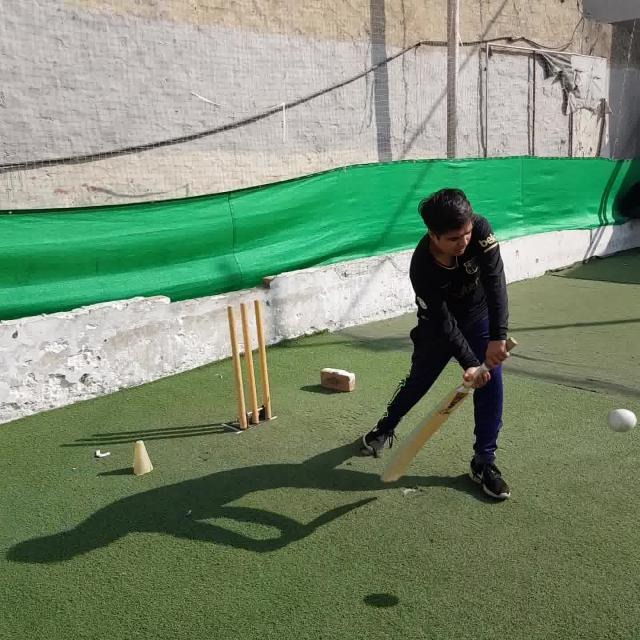ball: (608, 407, 637, 433)
bat: (379, 336, 516, 482)
